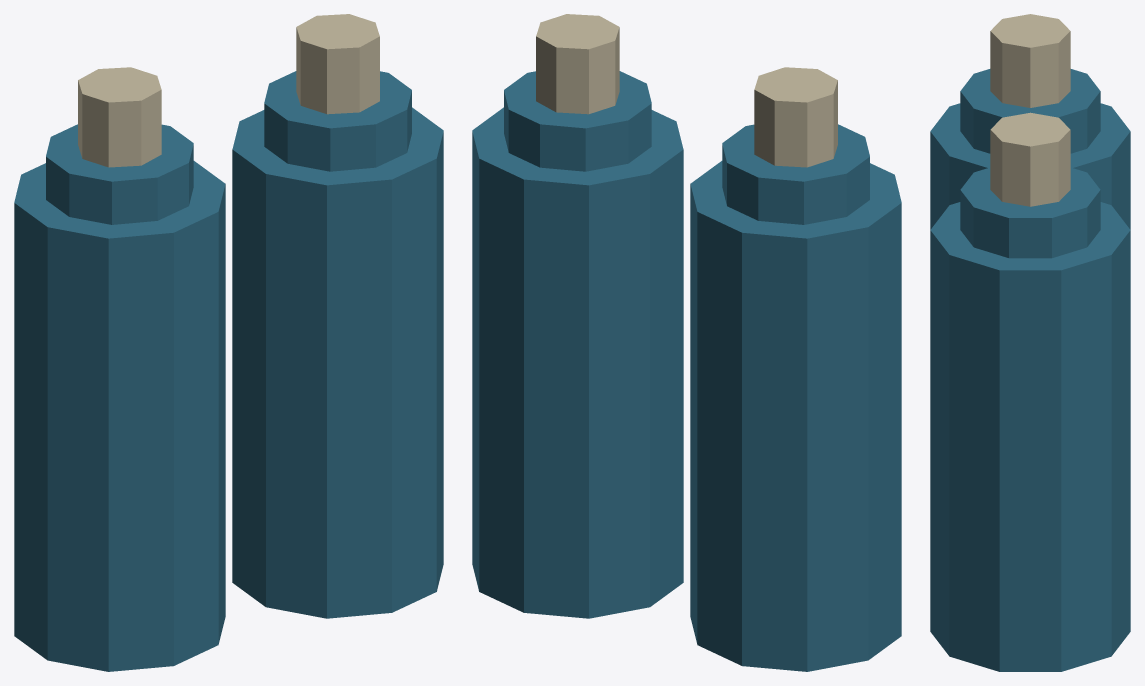
File: set_bottled_water.glb
3 views of the same model, side by side, from view 1: azimuth 30°, elevation 25°; view 2: azimuth 150°, elevation 25°; view 3: azimuth 270°, elevation 25° (orthographic). The views are drawn at different scales.
Visible parts, largest first — view 1: set_bottled_water; view 2: set_bottled_water; view 3: set_bottled_water.
Part boxes in pixels (box(x1,y1,x2,y2)): set_bottled_water: box(14, 14, 443, 671); set_bottled_water: box(472, 14, 901, 671); set_bottled_water: box(930, 14, 1130, 671).
Size of the model in its own units: 0.1271 by 0.166 by 0.06.
